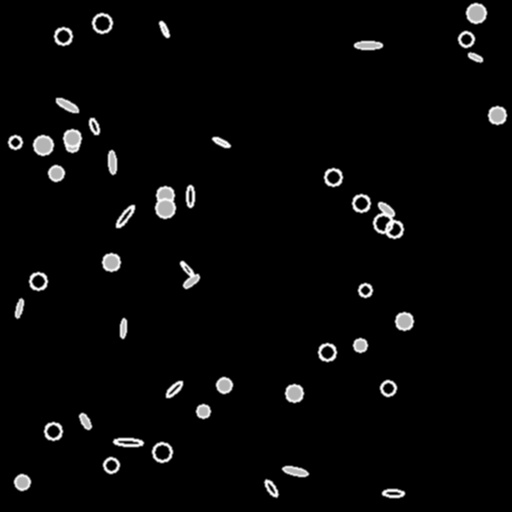pseudomonas: (115, 204, 135, 228), (55, 96, 79, 114), (376, 200, 396, 218), (164, 380, 184, 398), (263, 478, 279, 498), (282, 465, 308, 477), (179, 260, 195, 278), (182, 273, 200, 289), (78, 412, 92, 430), (114, 438, 142, 446), (212, 136, 230, 148), (88, 117, 100, 135), (158, 20, 170, 38), (14, 298, 24, 318), (108, 150, 116, 174), (467, 51, 483, 63), (355, 42, 381, 48), (120, 318, 126, 338), (187, 186, 193, 206), (383, 490, 403, 496)
synechocystis: (467, 4, 485, 22), (374, 214, 392, 232), (93, 14, 111, 32), (34, 136, 52, 154), (153, 443, 171, 461), (156, 199, 174, 217), (286, 385, 302, 401), (353, 195, 369, 211), (396, 313, 412, 329), (325, 169, 341, 185), (55, 28, 71, 44), (30, 273, 46, 289), (489, 107, 505, 123), (386, 221, 402, 237), (64, 130, 80, 146), (157, 187, 173, 203), (103, 254, 119, 270), (319, 344, 335, 360), (45, 423, 61, 439), (381, 381, 395, 395), (459, 32, 473, 46), (15, 475, 29, 489), (104, 458, 118, 472), (217, 378, 231, 392), (49, 166, 63, 180), (66, 139, 78, 151), (359, 284, 371, 296), (197, 405, 209, 417), (354, 339, 366, 351), (9, 136, 21, 148)
